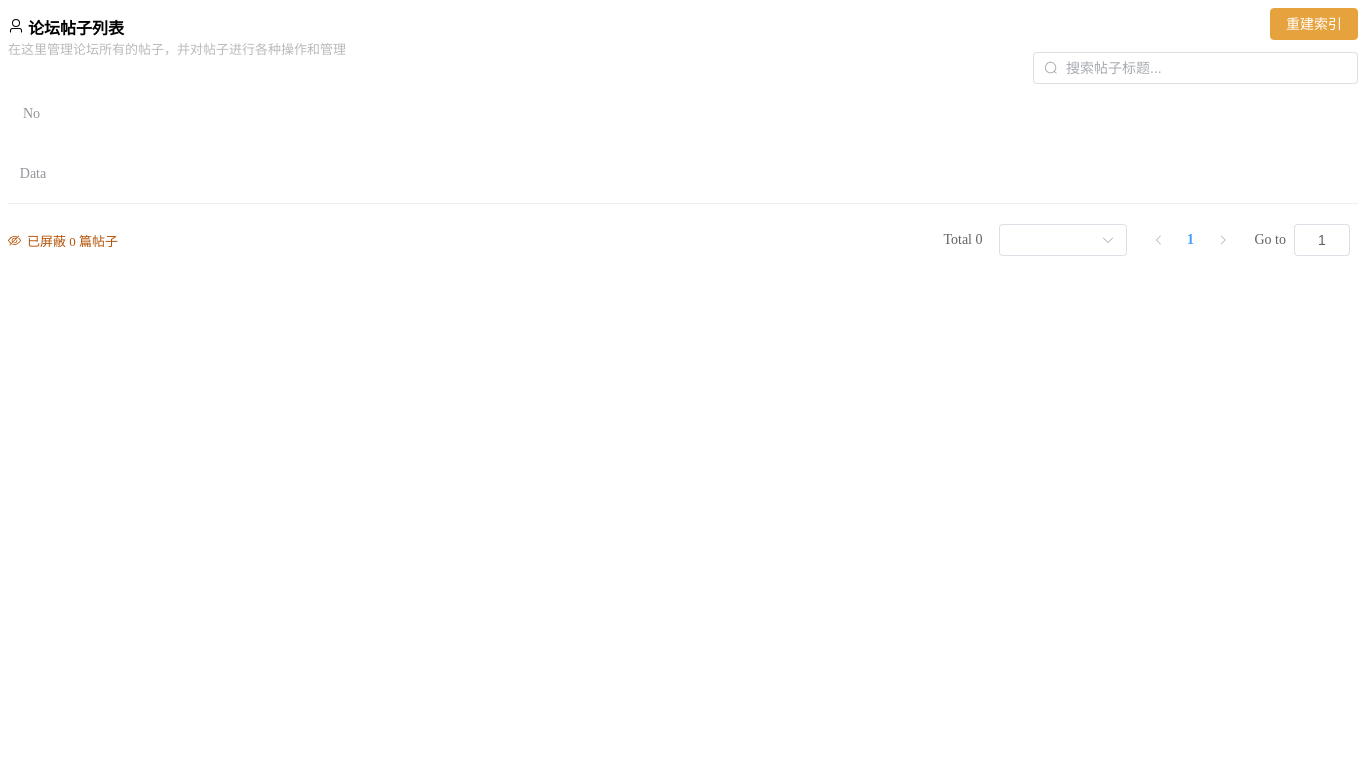
Test: ForumTopicAdmin index rebuild › reports partial failures when the rebuild completes
Click the button with test id "rebuild-index": click(1314, 24) x1=1270 y1=8 x2=1358 y2=40
Wait 1000 ms
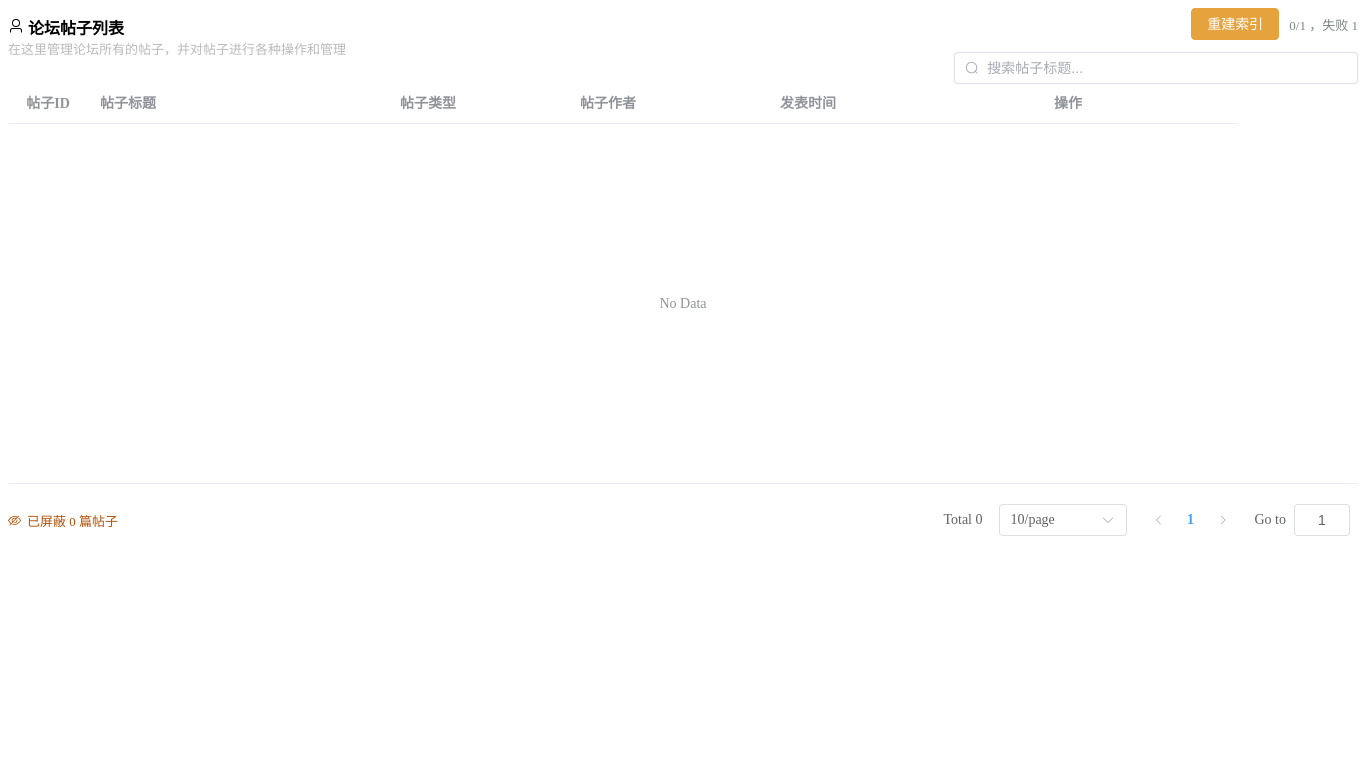
expect the text "失败 1" is shown: met, box x1=1309 y1=18 x2=1358 y2=32
